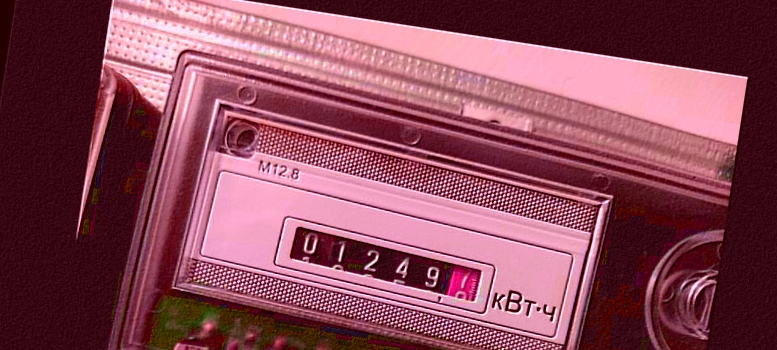0: (300, 228, 321, 257)
1: (331, 236, 349, 264)
2: (360, 247, 381, 275)
4: (393, 253, 412, 280)
7: (456, 263, 474, 291)
9: (421, 262, 441, 290)
screen: (268, 213, 501, 318)
